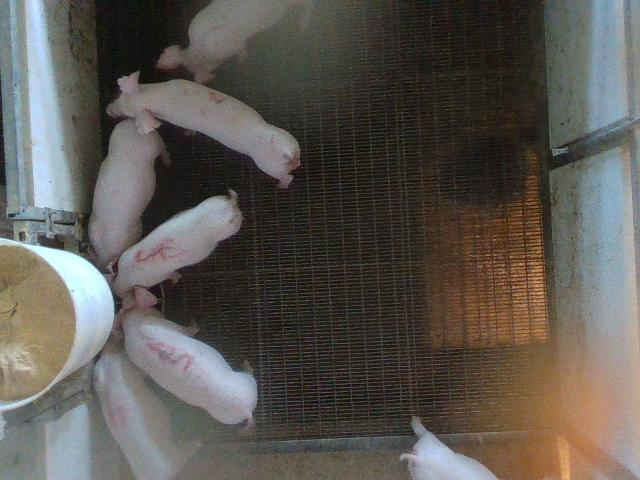pig-3: (114, 286, 258, 423)
pig-4: (94, 339, 200, 479)
pig-5: (114, 190, 242, 294)
